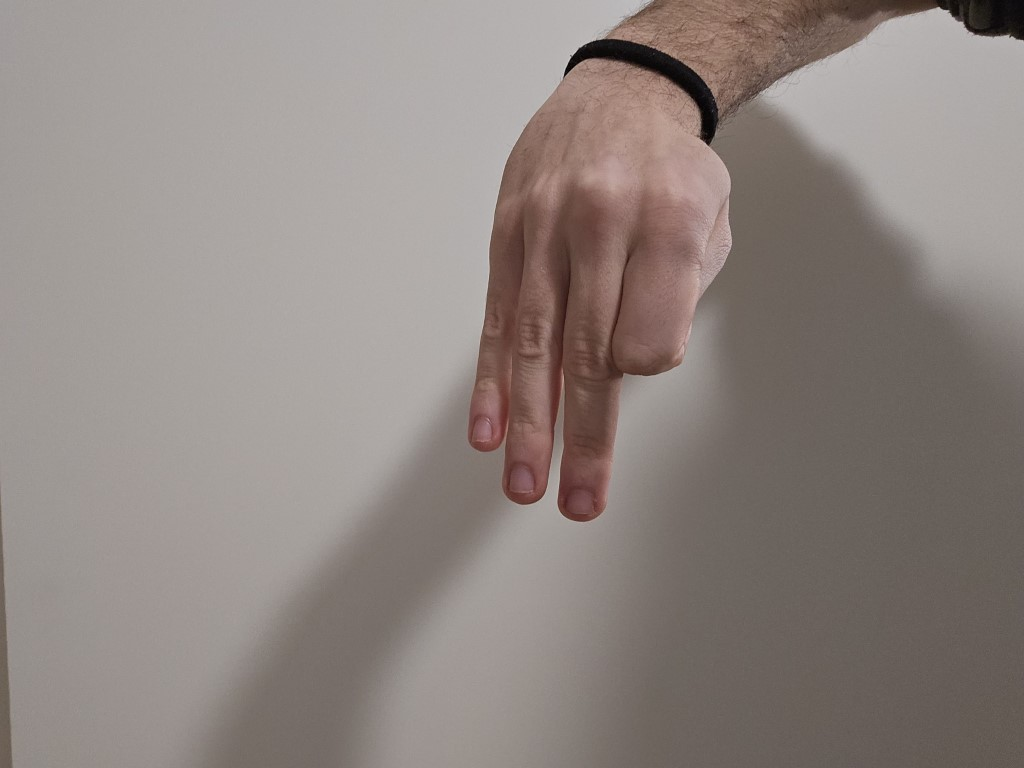m: (444, 74, 753, 547)
